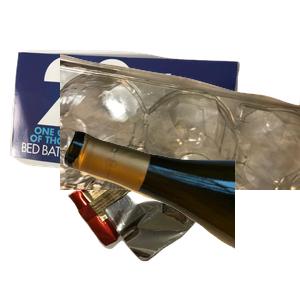glass: (60, 128, 300, 300)
paper: (10, 41, 242, 207)
plastic: (60, 52, 300, 232)
trash: (65, 148, 258, 300)
